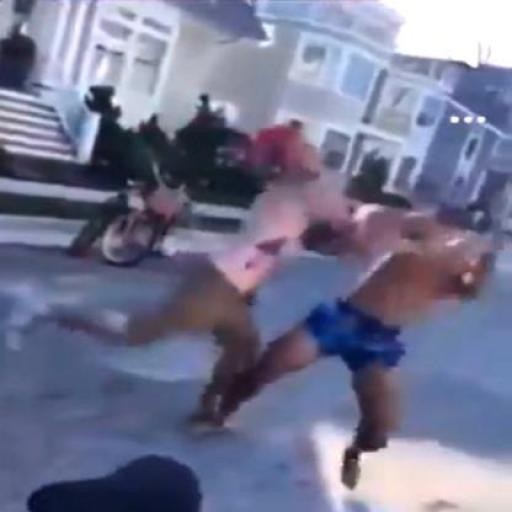Fighting: (27, 113, 498, 497)
